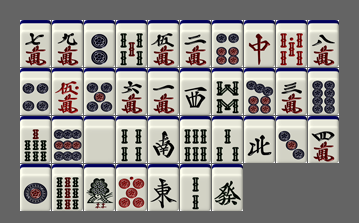0m: (52, 68, 83, 115)
0p: (116, 164, 147, 211)
0s: (276, 20, 307, 67)
1m: (148, 68, 179, 115)
1p: (20, 164, 51, 211)
1s: (84, 164, 115, 211)
1z: (148, 164, 179, 211)
2m: (180, 20, 211, 67)
2p: (84, 20, 115, 67)
2s: (180, 164, 211, 211)
2z: (148, 116, 179, 163)
3m: (276, 68, 307, 115)
3p: (276, 116, 307, 163)
3s: (212, 116, 243, 163)
3z: (180, 68, 211, 115)
4m: (308, 116, 339, 163)
4p: (20, 68, 51, 115)
4s: (116, 116, 147, 163)
4z: (244, 116, 275, 163)
5m: (148, 20, 179, 67)
5p: (84, 68, 115, 115)
5s: (116, 20, 147, 67)
5z: (84, 116, 115, 163)
6m: (116, 68, 147, 115)
6p: (212, 20, 243, 67)
6s: (180, 116, 211, 163)
6z: (212, 164, 243, 211)
7m: (20, 20, 51, 67)
7p: (244, 68, 275, 115)
7s: (20, 116, 51, 163)
7z: (244, 20, 275, 67)
8m: (308, 20, 339, 67)
8p: (308, 68, 339, 115)
8s: (212, 68, 243, 115)
9m: (52, 20, 83, 67)
9p: (52, 116, 83, 163)
9s: (52, 164, 83, 211)
